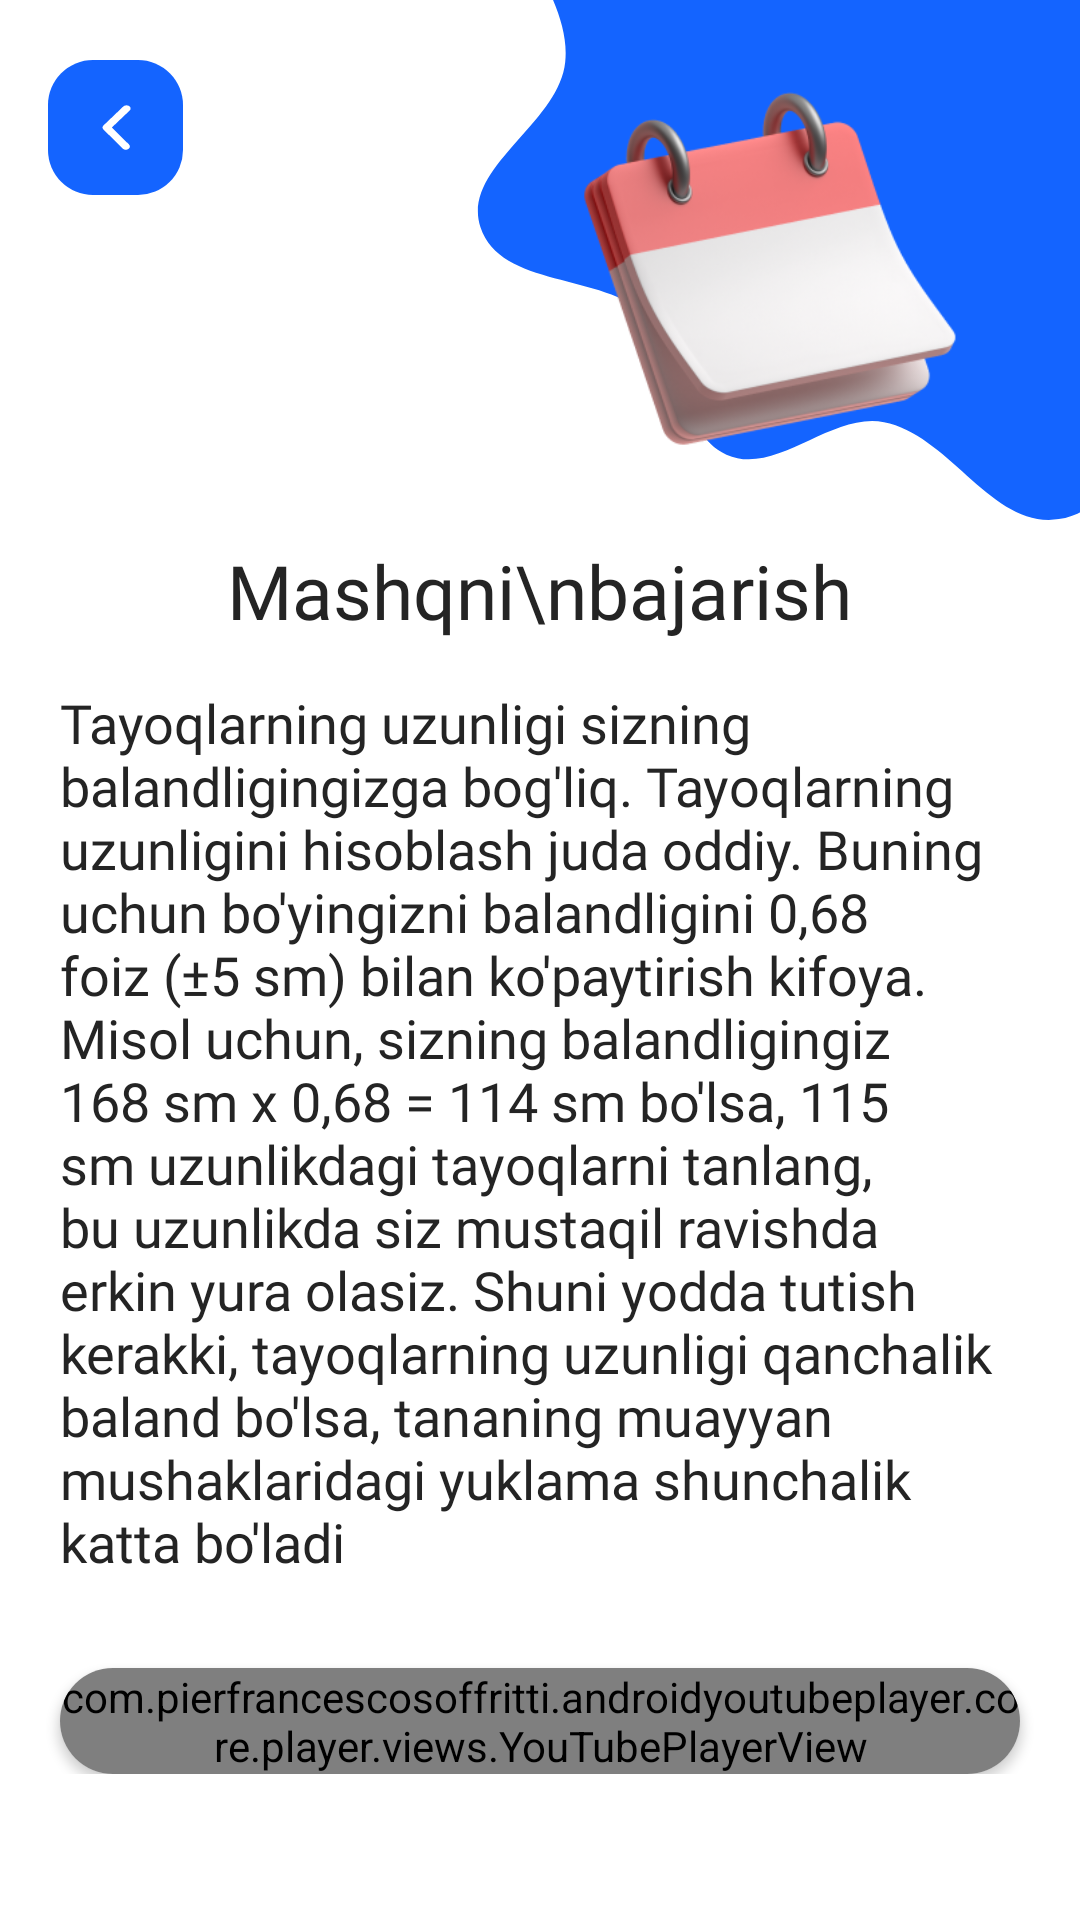

Screen size 1080w x 1920h. Icon name, then its center in pixels as [x,y]:
left arrow: [115,127]
